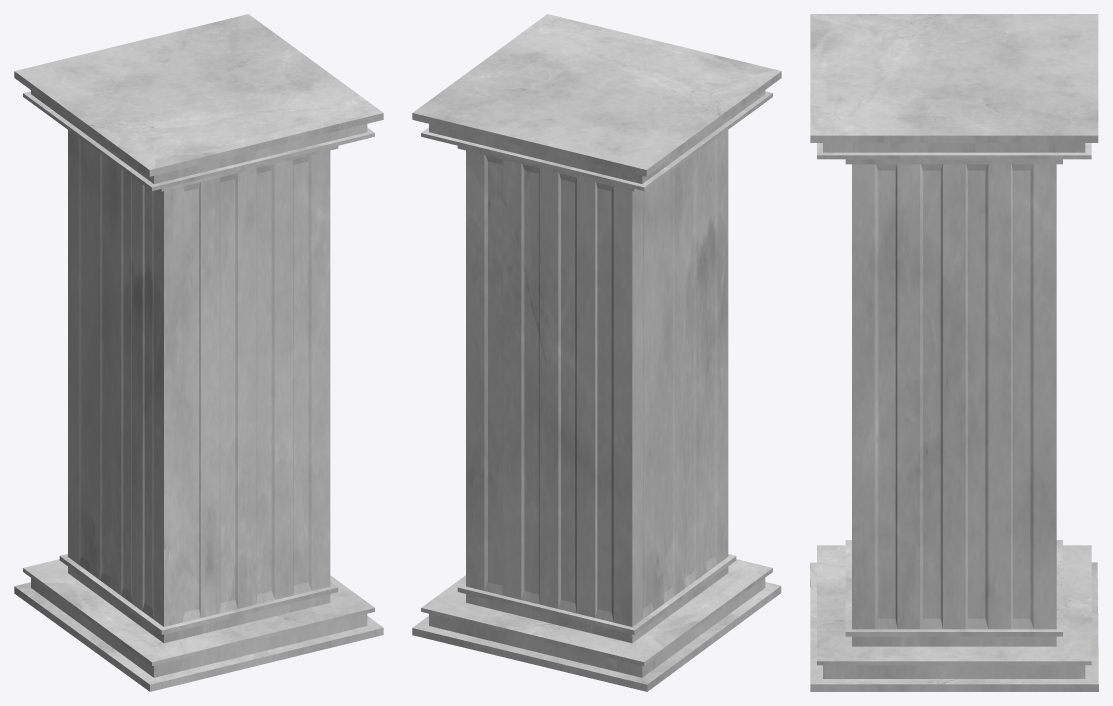
File: main.obj
The picture shows the model from 3 angles, left to right: view 1: azimuth 30°, elevation 25°; view 2: azimuth 150°, elevation 25°; view 3: azimuth 270°, elevation 25°; orthographic projection. The views are drawn at different scales.
Parts seen in each view (by area): view 1: Cube_Cube.001; view 2: Cube_Cube.001; view 3: Cube_Cube.001.
Part boxes in pixels (<box>): Cube_Cube.001: <box>14,14,383,691</box>; Cube_Cube.001: <box>412,14,781,691</box>; Cube_Cube.001: <box>810,14,1098,691</box>.
Size of the model in its own units: 1.41 by 3 by 1.41.
